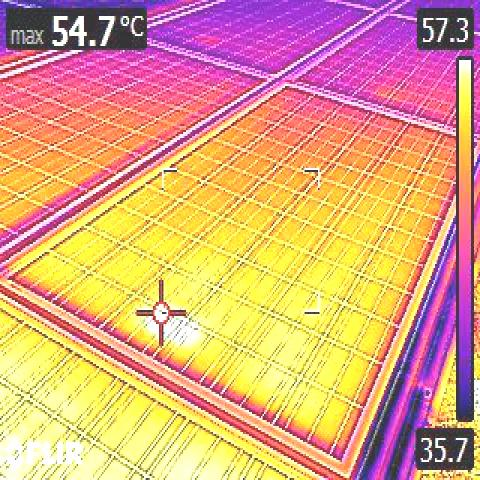fault: (140, 315, 155, 338)
